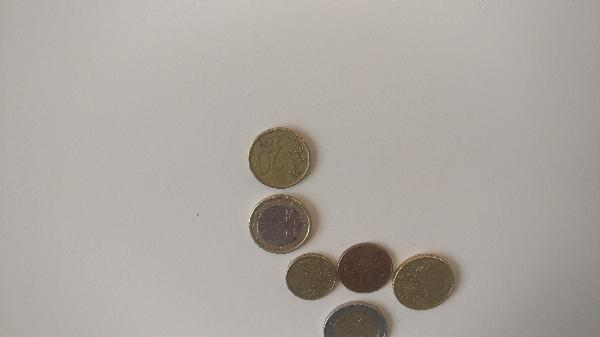Fifty Cent: (394, 251, 456, 311)
Five Cent: (337, 242, 393, 295)
One Euro: (249, 195, 313, 251)
Ten Cent: (282, 252, 335, 300)
Twenty Cent: (251, 127, 312, 187)
Two Euro: (323, 303, 385, 337)
